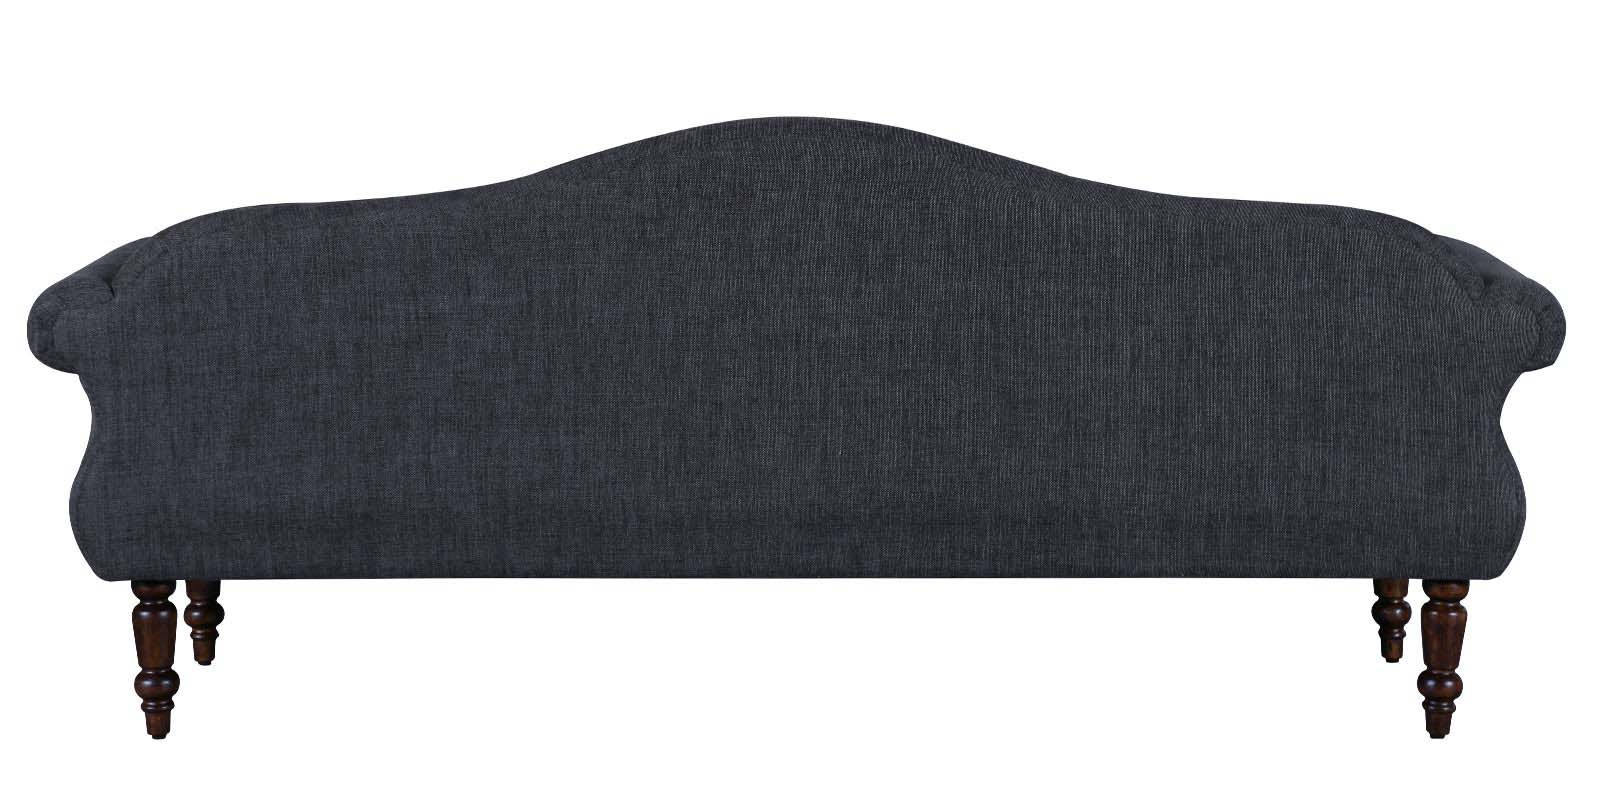Harleston Three Seater Sofa in Provincial Teak Finish by Amberville: (24, 93, 1581, 772)
